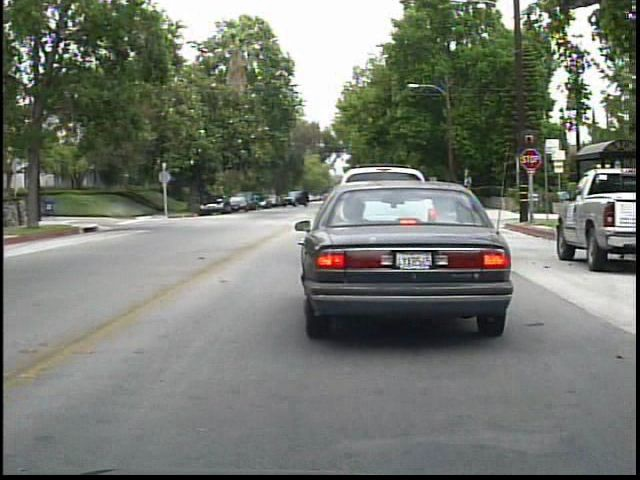person: (250, 188, 265, 214)
